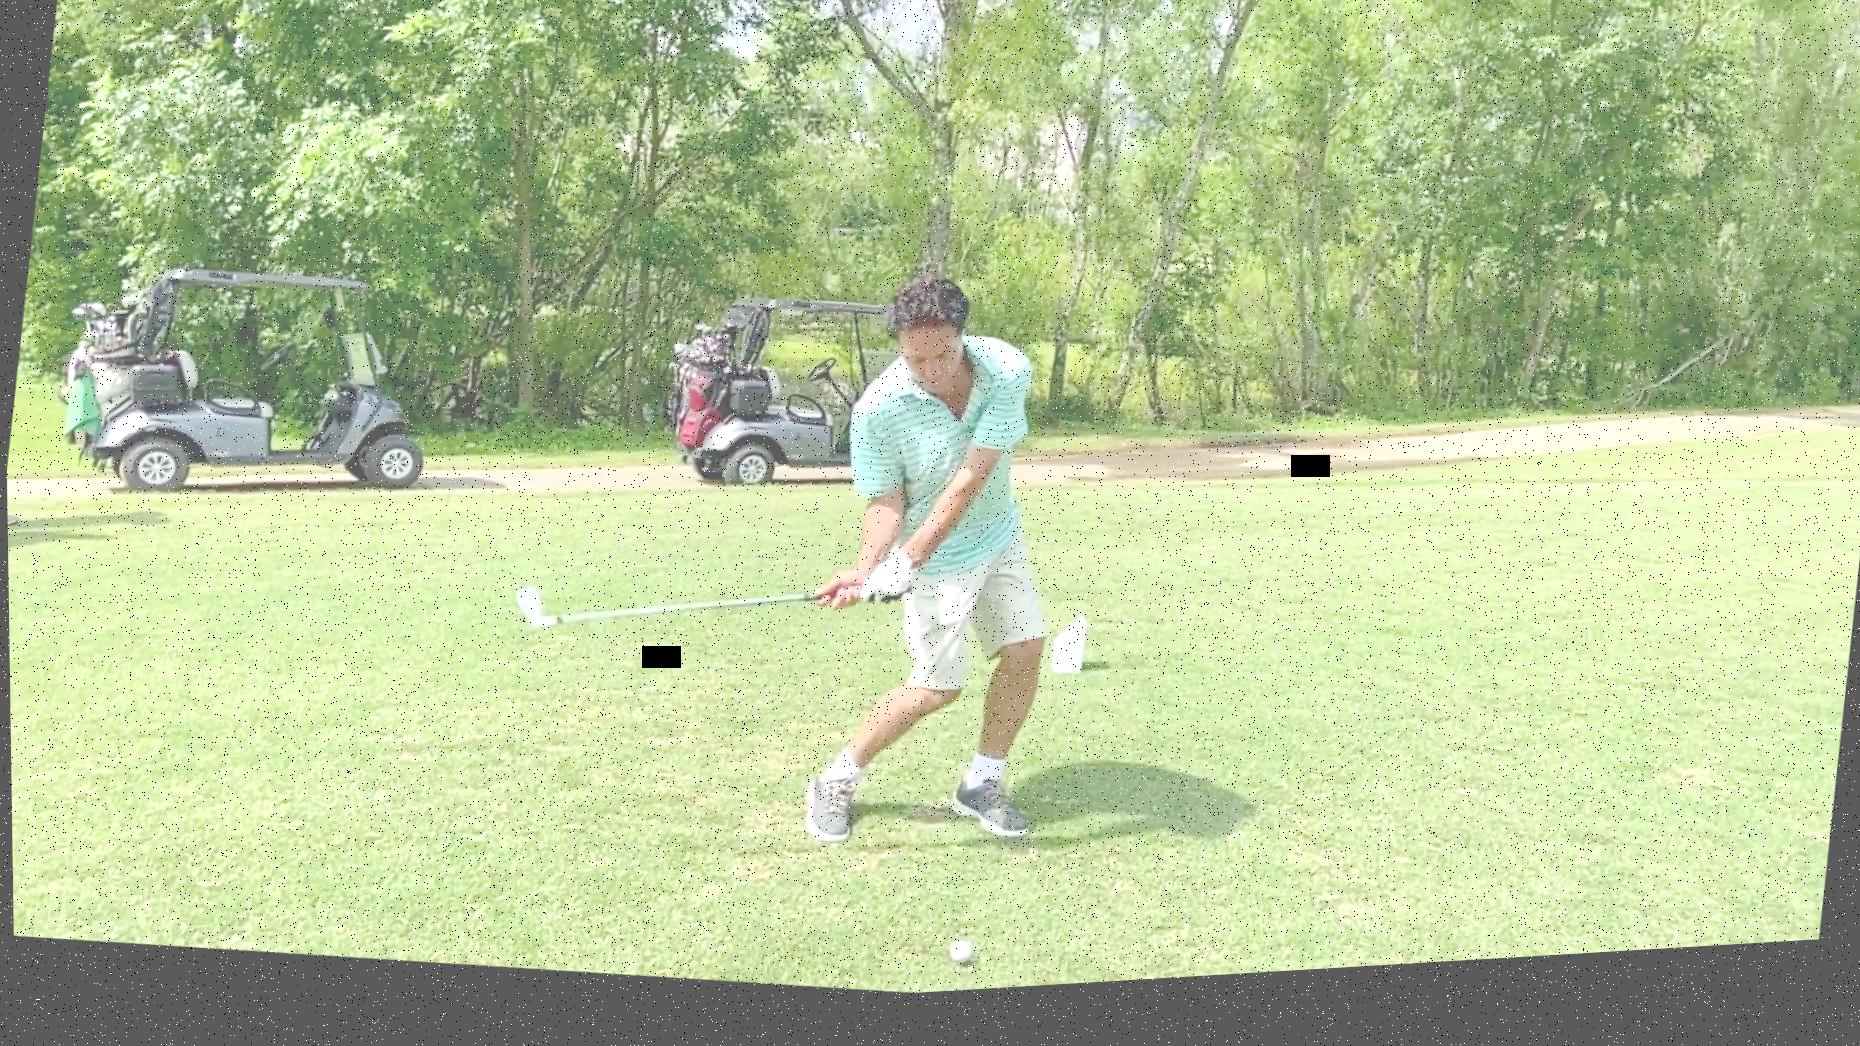GolfBall: (940, 946, 979, 981)
